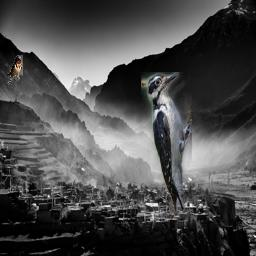Swallow: (7, 55, 23, 85)
Woodpecker: (141, 72, 192, 218)
